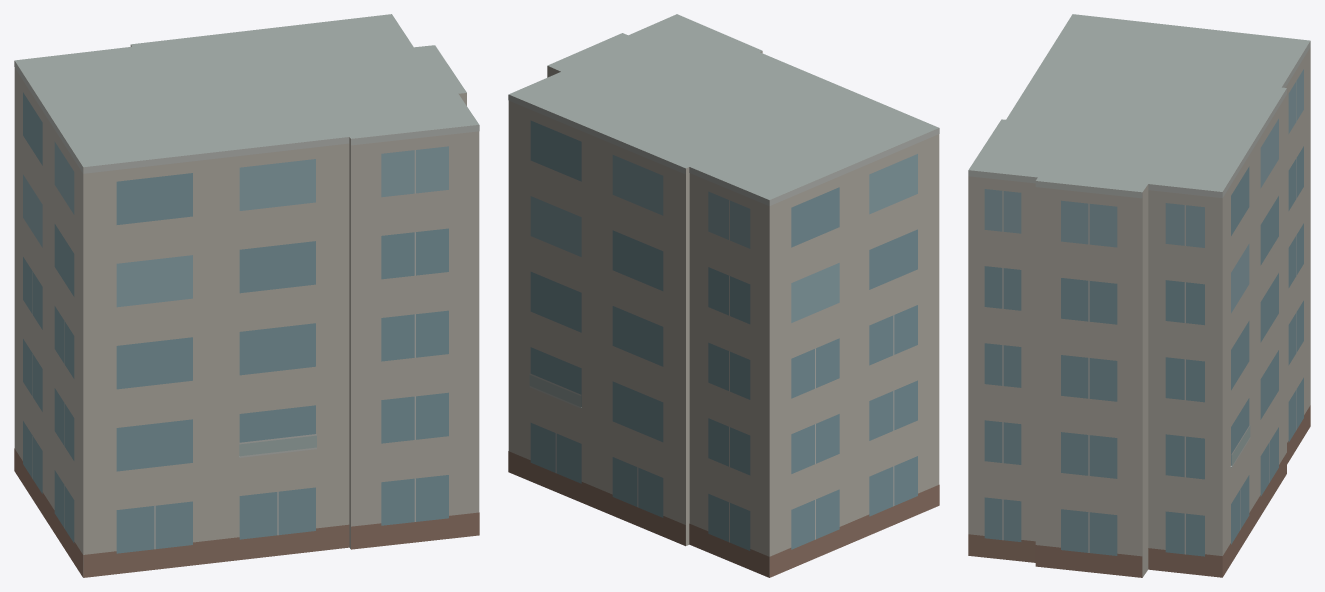
Rendered from survey-upis-32716563.glb.
3 renders of one model, left to right at view 1: azimuth 30°, elevation 25°; view 2: azimuth 150°, elevation 25°; view 3: azimuth 270°, elevation 25°, orthographic. The views are drawn at different scales.
Parts seen in each view (by area): view 1: survey-upis-32716563.tmp; view 2: survey-upis-32716563.tmp; view 3: survey-upis-32716563.tmp.
Boxes of the visible parts, x1,y1,x2,y2 form: survey-upis-32716563.tmp: (14, 14, 479, 577); survey-upis-32716563.tmp: (508, 14, 939, 577); survey-upis-32716563.tmp: (968, 14, 1310, 577).
Size of the model in its own units: 15.13 by 15.25 by 12.28.
